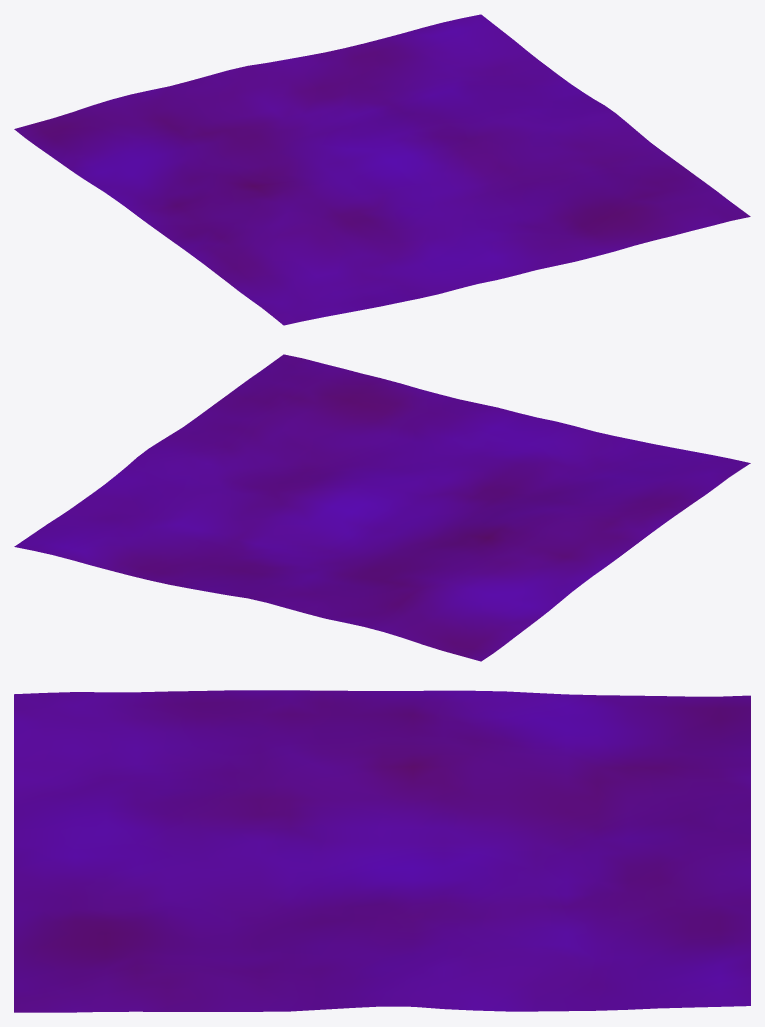
Rendered from ground_34.glb.
The picture shows the model from 3 angles, top to bottom: view 1: azimuth 30°, elevation 25°; view 2: azimuth 150°, elevation 25°; view 3: azimuth 270°, elevation 25°; orthographic projection. The views are drawn at different scales.
Visible parts, largest first — view 1: Ground_34; view 2: Ground_34; view 3: Ground_34.
Part boxes in pixels (box(x1,y1,x2,y2)): Ground_34: box(14, 14, 750, 325); Ground_34: box(14, 354, 750, 661); Ground_34: box(14, 690, 750, 1012).
Size of what is drawn, in the model's own units: 24 by 0.6312 by 24.
